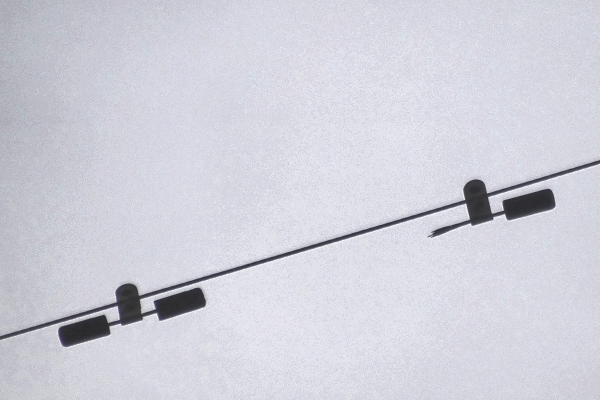damper_defect: (56, 281, 208, 351), (427, 176, 558, 241)
